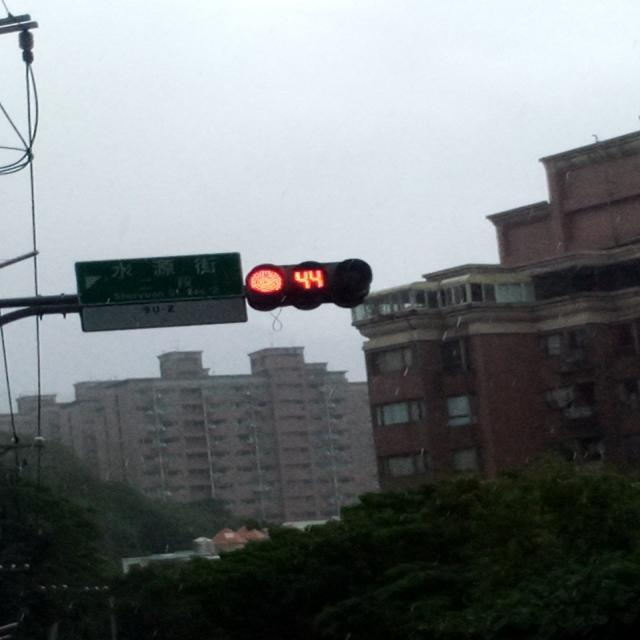red light: (251, 258, 373, 299)
